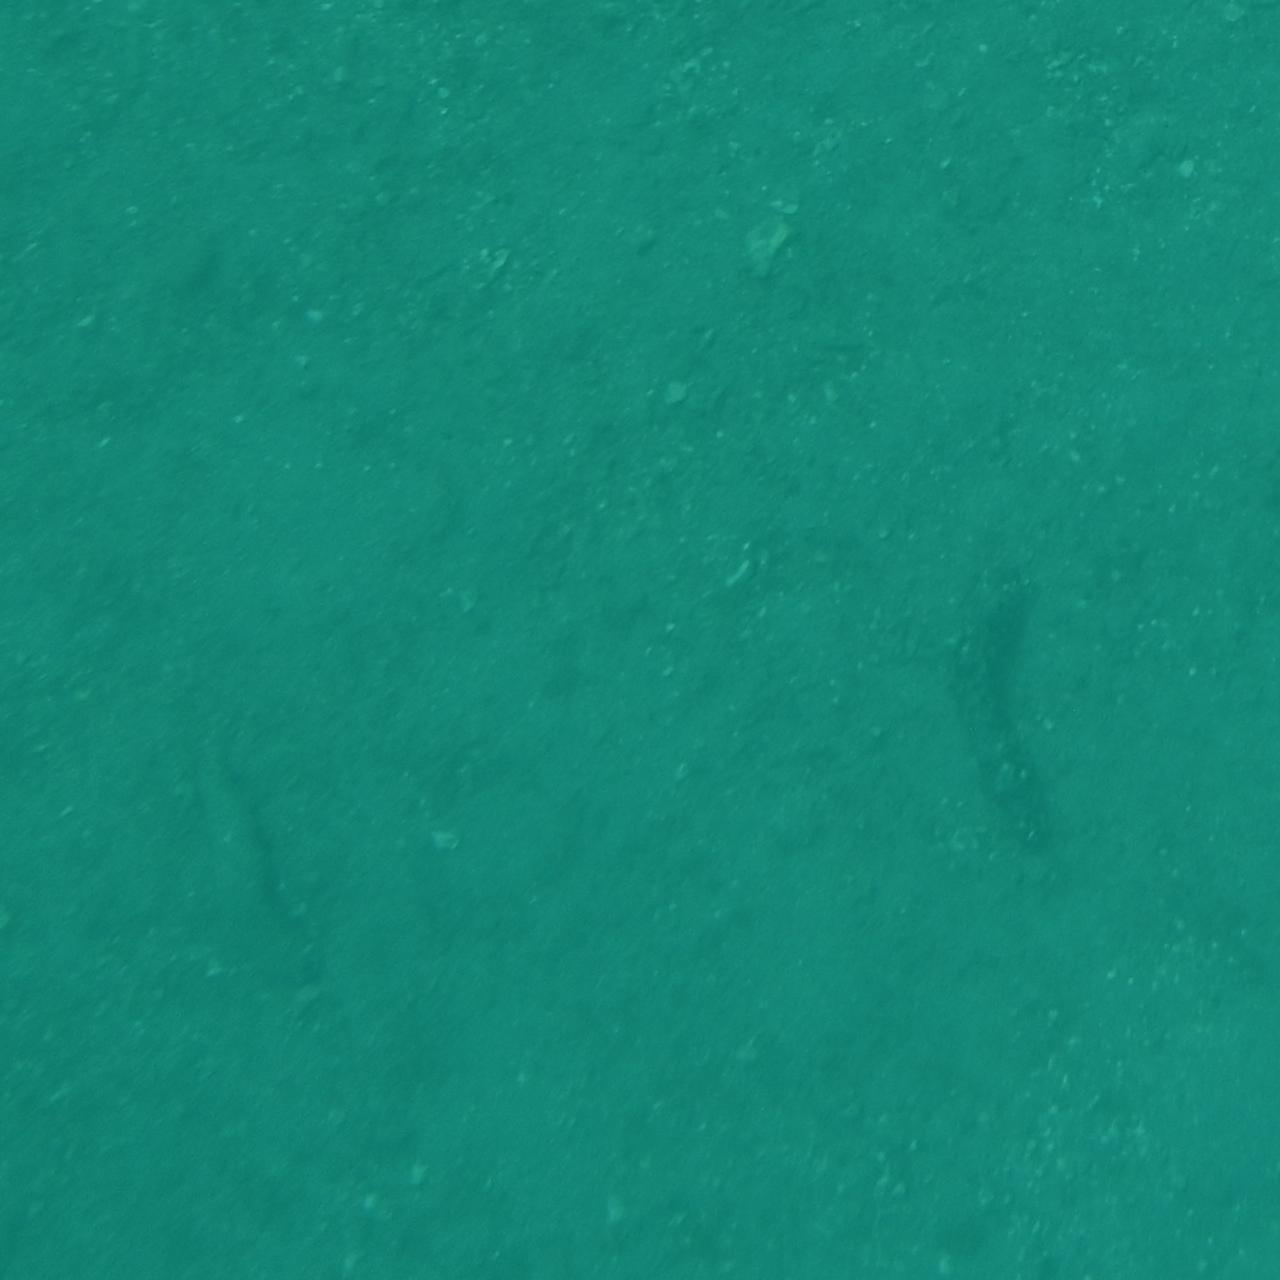Holothuria tubulosa: (157, 715, 349, 1009), (1129, 559, 1280, 775), (960, 526, 1049, 878), (0, 250, 87, 588), (0, 680, 177, 837), (0, 383, 96, 625), (1184, 748, 1280, 888)
